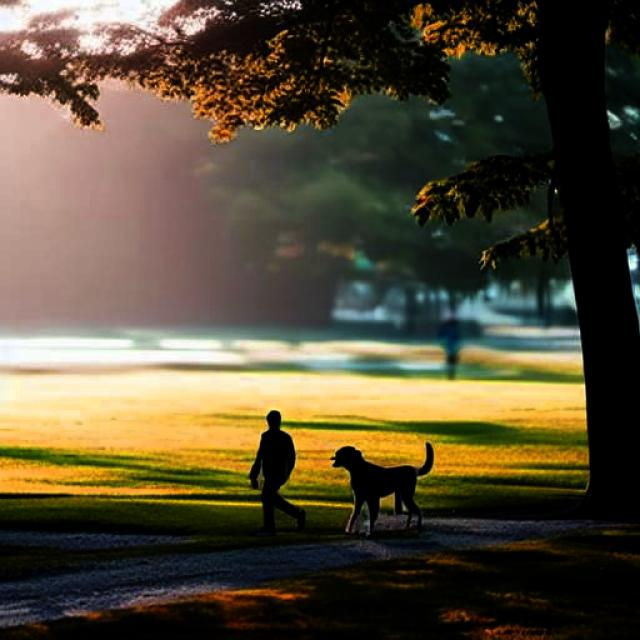Unleashed_Dog: (262, 439, 434, 538)
